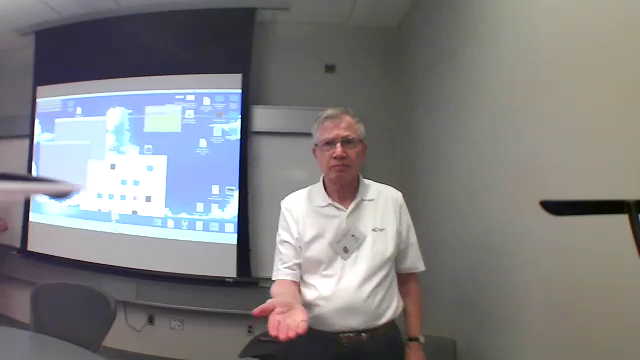land: (248, 289, 322, 346)
